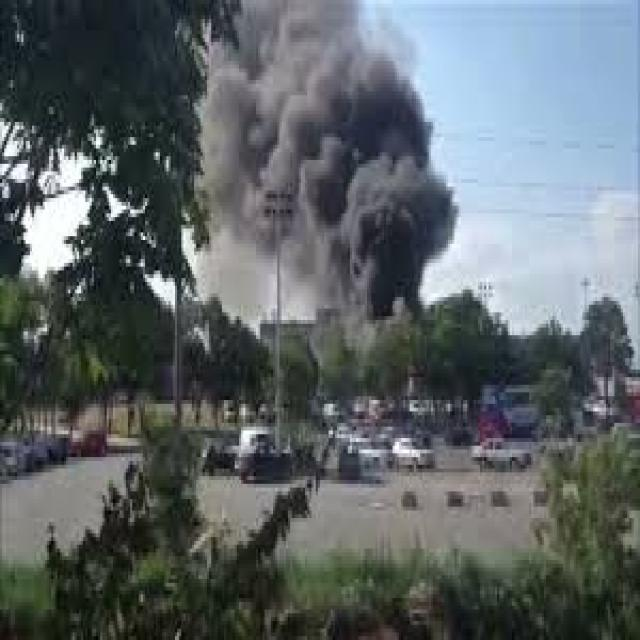Smoke: (192, 0, 457, 324)
